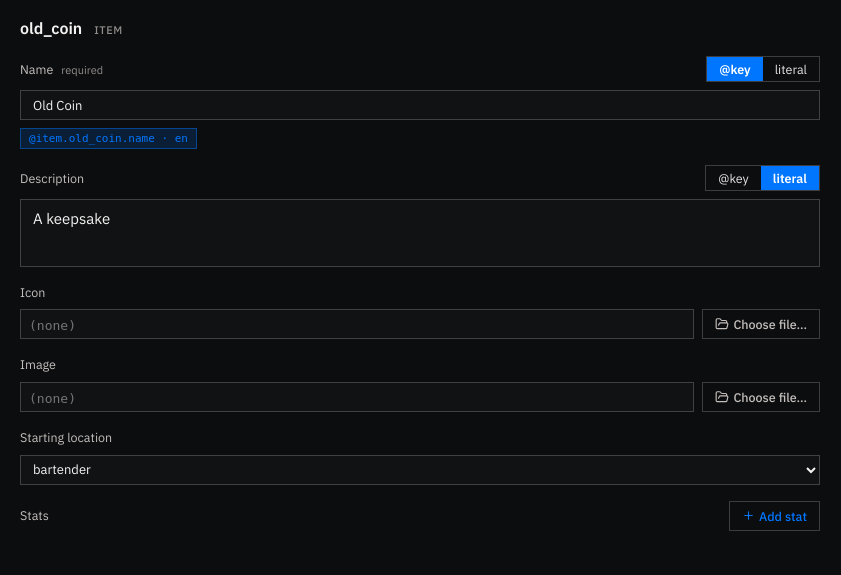
Scenario: EntityForm field controls › resolves localized text and groups every valid item destination
The image size is (841, 575).
Expected: the text "old_coin" is shown, left=20, top=16, right=82, bottom=40
Expected: the field showing "Old Coin" is shown, left=20, top=90, right=820, bottom=120
Select "(none)" in the dropdown: [420, 470] box left=20, top=455, right=820, bottom=485
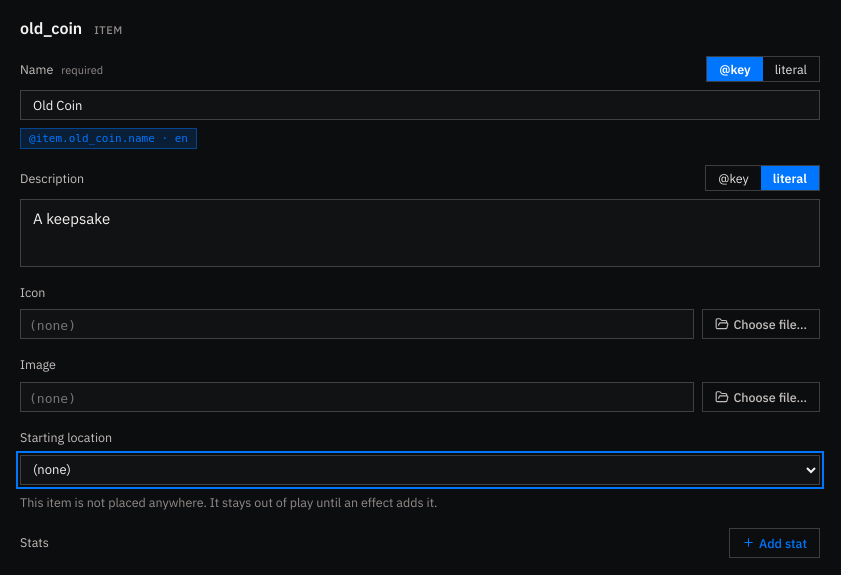
Expected: the text "stays out of play" is shown, left=20, top=494, right=438, bottom=510
Select "inventory" in the dropdown: [420, 470] box left=20, top=455, right=820, bottom=485
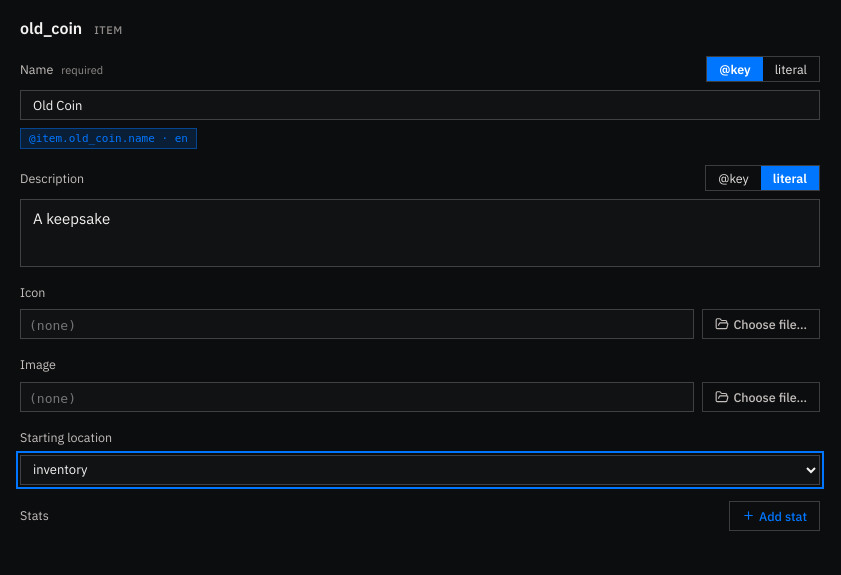
Expected: the text "stays out of play" is gone
